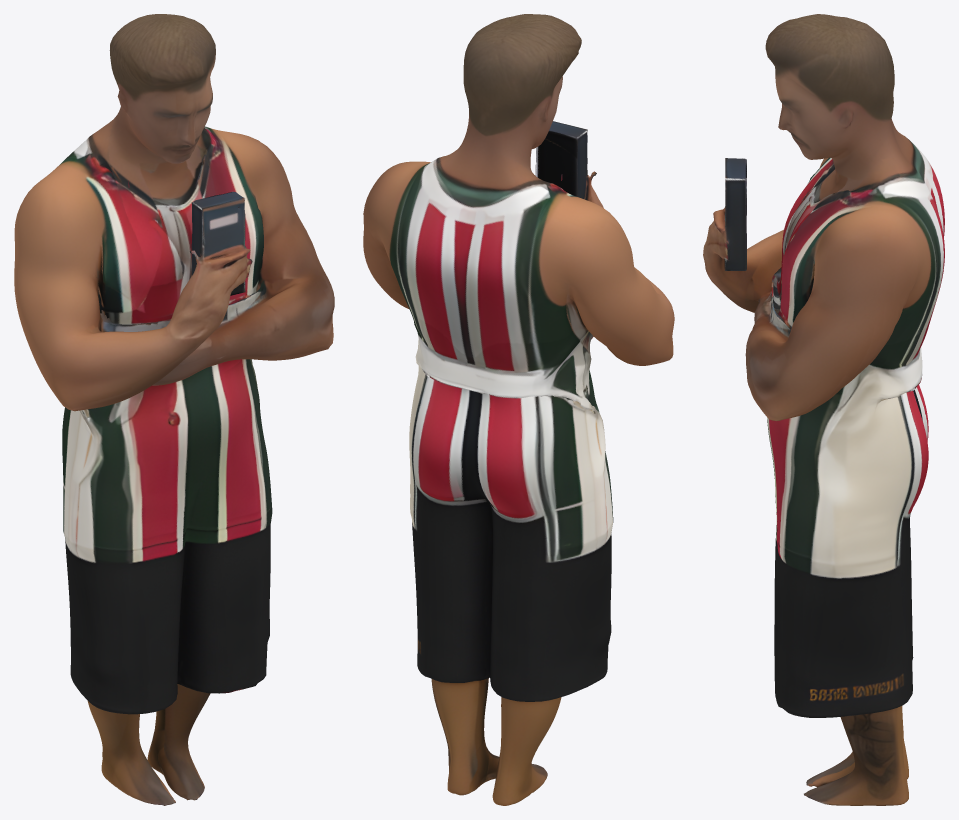
File: velho.glb
3 renders of one model, left to right at view 1: azimuth 30°, elevation 25°; view 2: azimuth 150°, elevation 25°; view 3: azimuth 270°, elevation 25°, orthographic. The views are drawn at different scales.
Visible parts, largest first — view 1: model; view 2: model; view 3: model.
Part boxes in pixels (x1,y1,x2,y2): model: (14, 14, 334, 805); model: (363, 14, 674, 805); model: (703, 14, 944, 805).
Size of the model in its own units: 0.7341 by 1.9 by 0.5443.
Materials: 1 (1 with a texture image).
